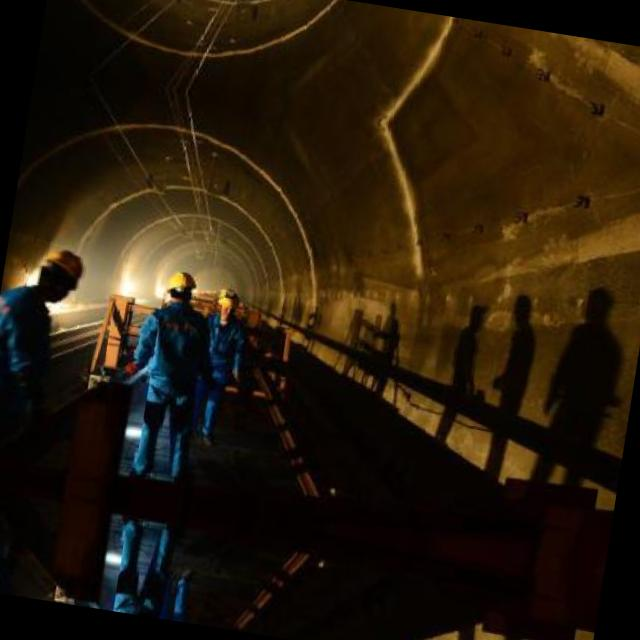helmet: (31, 243, 88, 304), (160, 266, 198, 310), (210, 280, 244, 325)
